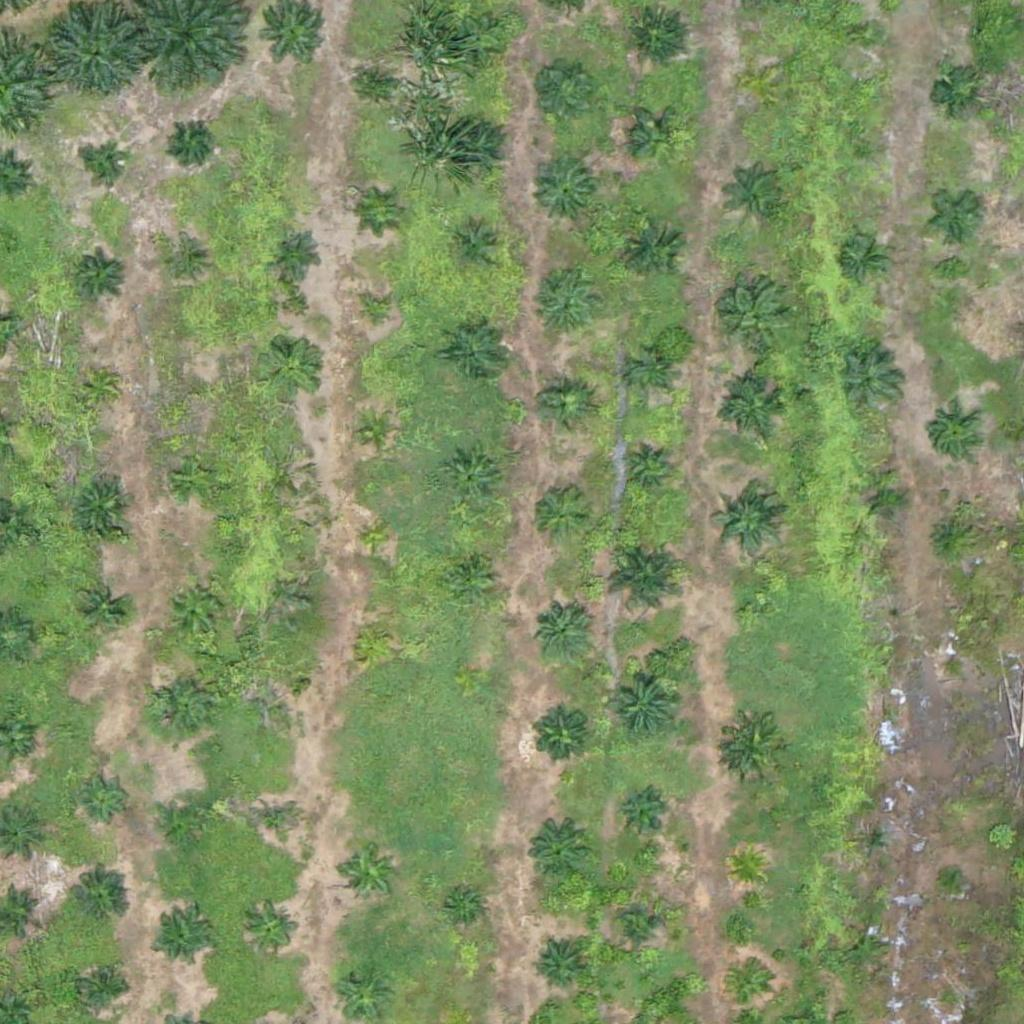Kelapa_Sawit: (602, 534, 689, 622), (710, 485, 785, 561), (524, 55, 599, 131), (605, 665, 680, 740), (528, 483, 591, 546), (533, 276, 596, 339), (531, 600, 594, 663), (839, 349, 902, 412), (722, 717, 785, 780), (147, 674, 210, 737), (446, 319, 509, 382), (337, 842, 400, 905), (442, 449, 505, 512), (447, 119, 510, 182), (626, 3, 689, 66), (68, 872, 131, 935), (152, 910, 214, 973), (532, 160, 594, 223), (525, 820, 587, 883), (529, 703, 591, 766), (622, 220, 684, 283), (722, 377, 784, 440), (724, 287, 787, 349), (730, 165, 792, 228), (71, 476, 133, 539), (165, 577, 227, 640), (261, 337, 323, 400), (246, 903, 296, 954), (531, 941, 581, 992), (451, 223, 501, 274), (860, 475, 910, 526), (922, 510, 972, 561), (458, 17, 508, 68), (76, 582, 126, 633), (250, 797, 300, 848), (162, 795, 212, 846), (80, 772, 130, 823), (540, 382, 590, 432), (612, 791, 662, 841), (932, 190, 982, 240), (632, 112, 682, 162), (839, 233, 889, 283), (927, 408, 977, 458), (75, 249, 125, 299), (445, 550, 495, 600), (934, 70, 984, 120), (613, 905, 663, 955), (271, 228, 321, 278), (171, 453, 221, 503), (78, 961, 128, 1011), (621, 443, 670, 494), (365, 193, 403, 231), (172, 121, 210, 159), (728, 848, 766, 886), (730, 970, 768, 1008), (846, 928, 884, 966), (358, 294, 396, 332), (356, 413, 394, 451), (358, 520, 396, 558), (354, 620, 392, 658), (80, 367, 118, 405), (445, 891, 483, 929), (89, 147, 126, 185), (631, 352, 668, 390), (855, 822, 892, 860), (166, 245, 203, 283), (178, 374, 215, 412), (261, 672, 298, 710), (360, 65, 397, 102), (853, 135, 878, 160), (853, 19, 878, 44), (748, 73, 773, 98), (940, 862, 965, 887), (937, 653, 962, 678), (738, 600, 763, 625)
